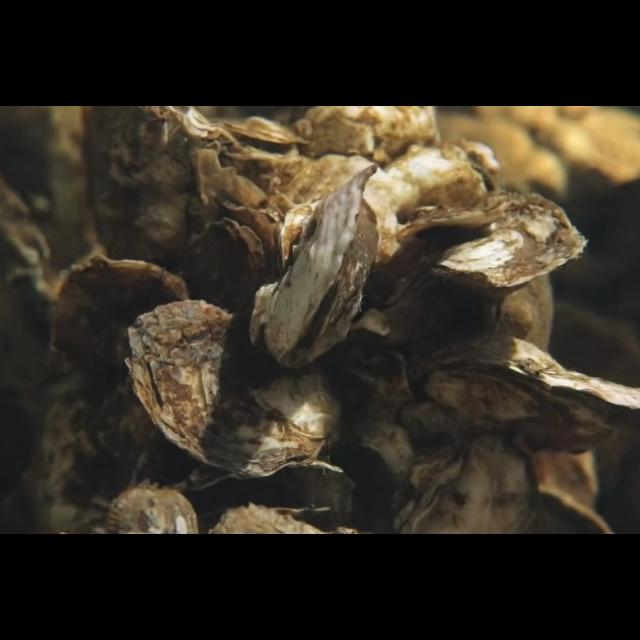Oyster-Closed: (40, 253, 192, 534), (123, 298, 344, 480), (378, 192, 588, 331), (246, 164, 380, 370), (86, 106, 218, 274), (388, 431, 540, 535), (185, 218, 265, 312)
Oyster-Open: (408, 337, 640, 458), (176, 459, 342, 518), (213, 116, 307, 168)
